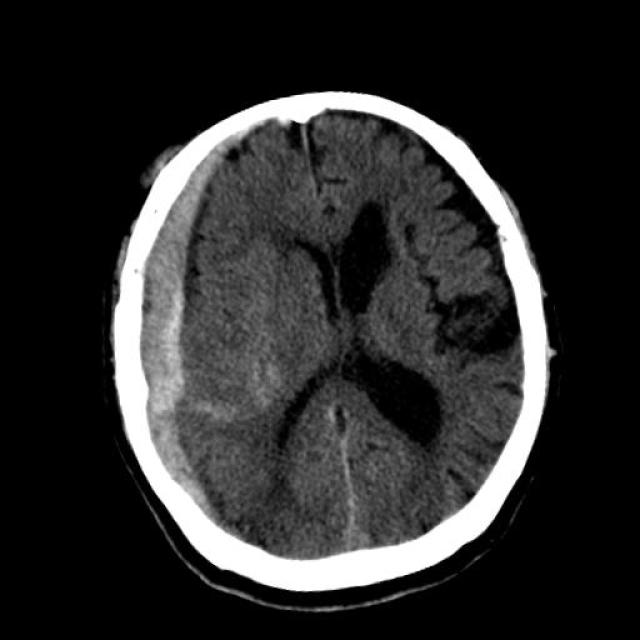Subdural: (28, 136, 294, 546)
